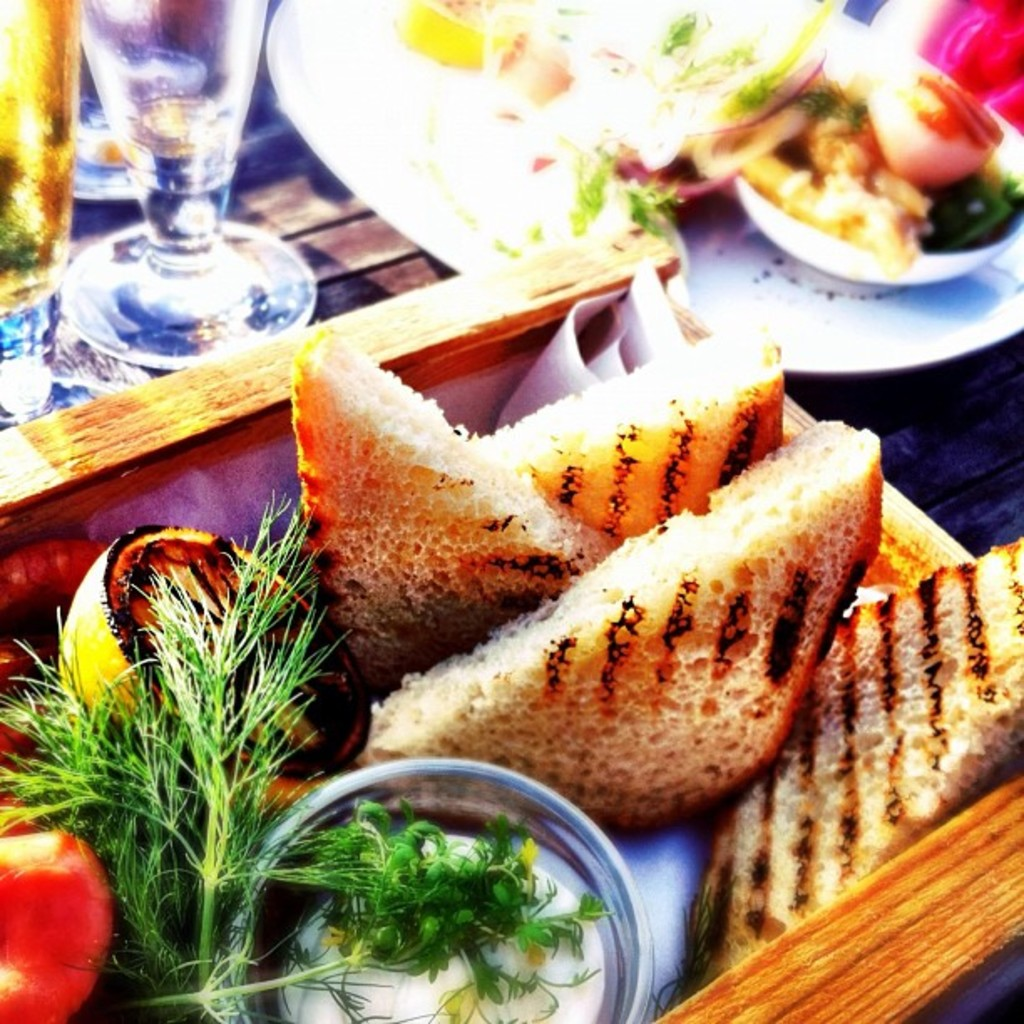Tomato: (0, 848, 125, 982)
